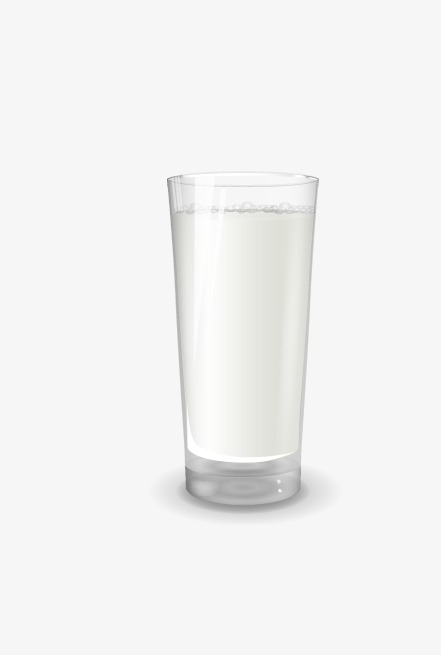glass of milk: (161, 169, 322, 517)
